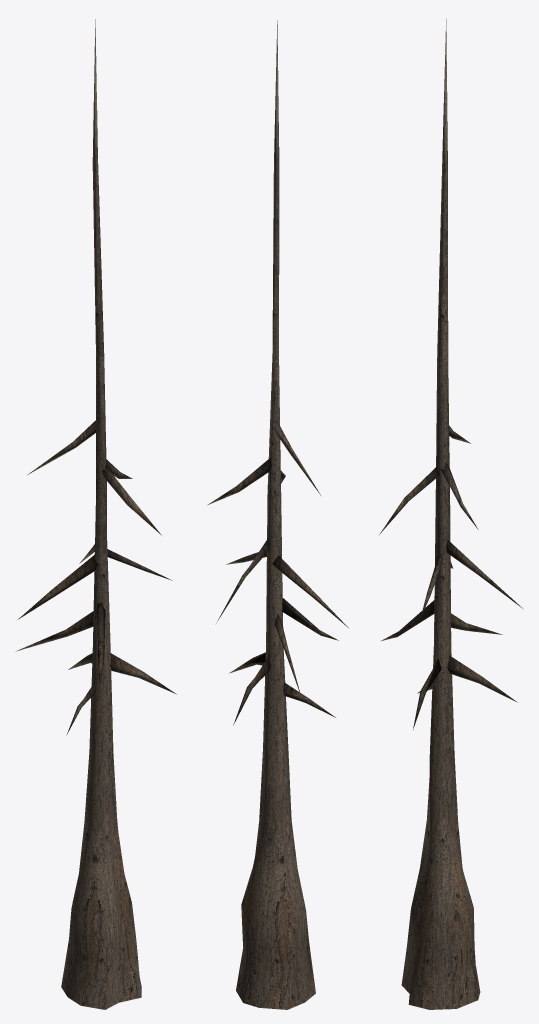
Rendered from forest_pine_01.glb.
3 views of the same model, side by side, from view 1: azimuth 30°, elevation 25°; view 2: azimuth 150°, elevation 25°; view 3: azimuth 270°, elevation 25° (orthographic).
Visible parts, largest first — view 1: Tree_Trunk_01.001_Tree_Trunk_01_0; view 2: Tree_Trunk_01.001_Tree_Trunk_01_0; view 3: Tree_Trunk_01.001_Tree_Trunk_01_0.
Boxes of the visible parts, x1=… form: Tree_Trunk_01.001_Tree_Trunk_01_0: x1=15, y1=19, x2=176, y2=1009; Tree_Trunk_01.001_Tree_Trunk_01_0: x1=207, y1=20, x2=348, y2=1009; Tree_Trunk_01.001_Tree_Trunk_01_0: x1=379, y1=19, x2=522, y2=1009.
Bounding box in the file's own units: 0.7261 × 4.8 × 0.6519.
Materials: 1 (1 with a texture image).
